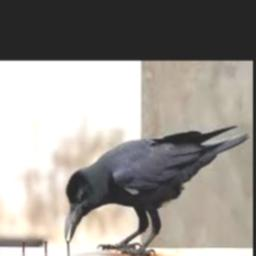Crow: (65, 124, 251, 256)
